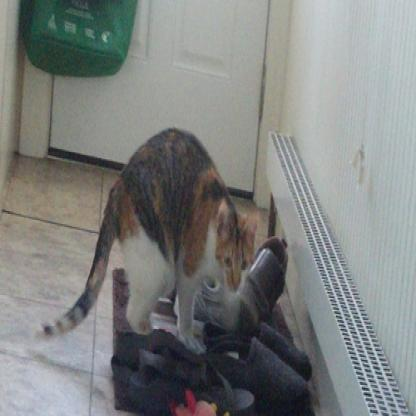Target: (35, 116, 260, 352)
